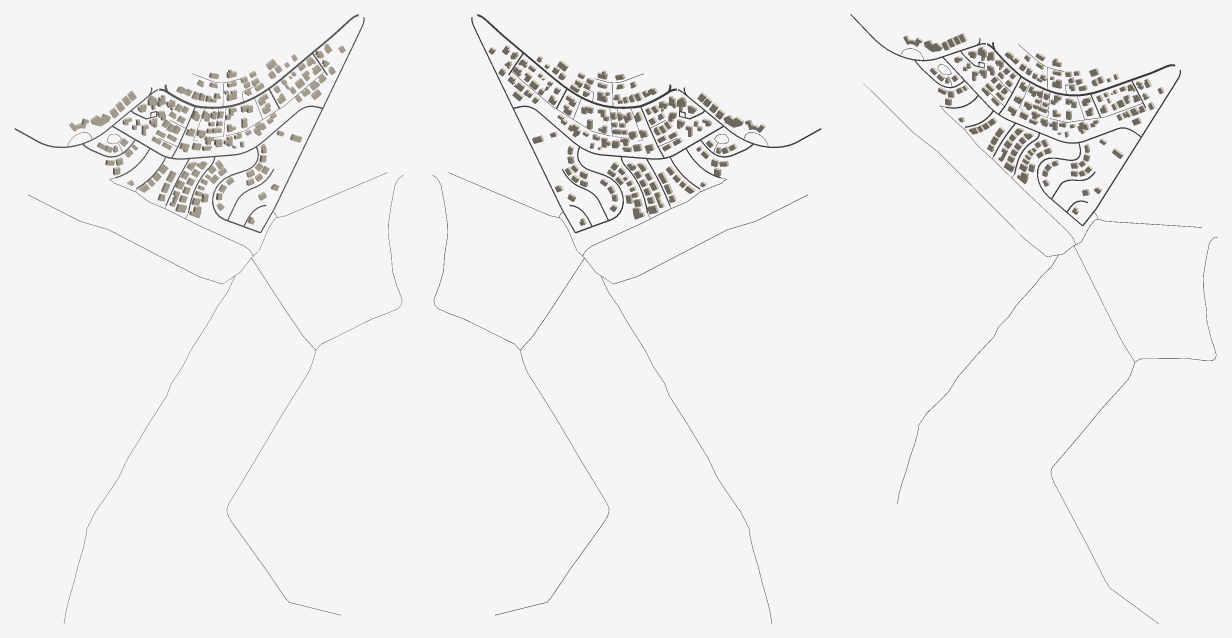
Rendered from historic-palestine-10_32_3516_3269.glb.
3 renders of one model, left to right at view 1: azimuth 30°, elevation 25°; view 2: azimuth 150°, elevation 25°; view 3: azimuth 330°, elevation 25°, orthographic. The views are drawn at different scales.
Visible parts, largest first — view 1: Road, Road האלון.001; view 2: Road, Road האלון.001; view 3: Road, Road האלון.001.
Part boxes in pixels (<box>): Road: <box>226,175,403,615</box>; Road האלון.001: <box>167,14,358,108</box>; Road: <box>432,175,609,615</box>; Road האלון.001: <box>477,14,668,108</box>; Road: <box>1050,237,1217,623</box>; Road האלון.001: <box>994,50,1175,96</box>.
Bounding box in the file's own units: 989 × 1450 × 8.7.
